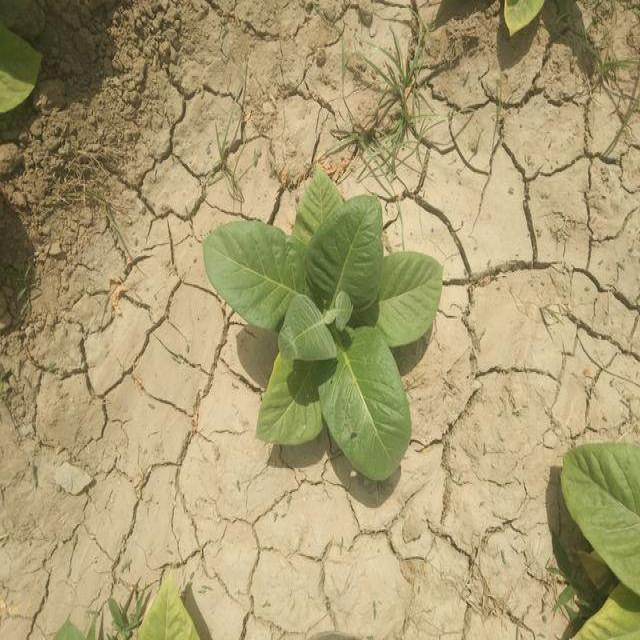crop: (203, 162, 444, 484), (563, 447, 637, 640)
